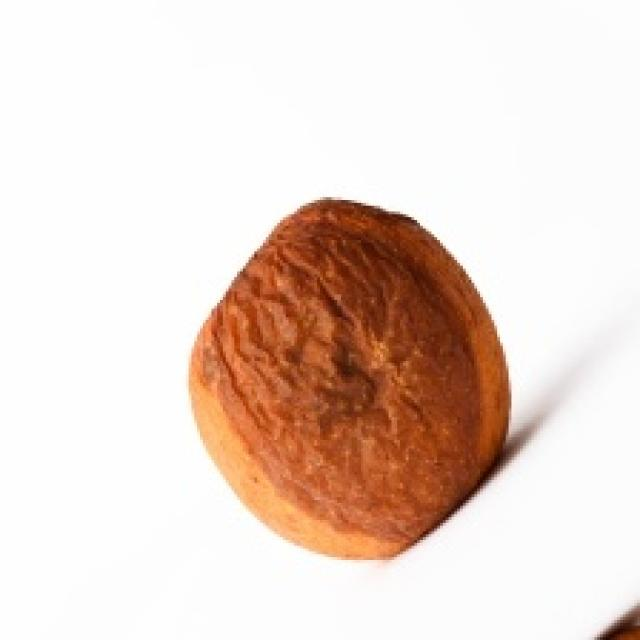rotten_apple: (193, 199, 506, 562)
